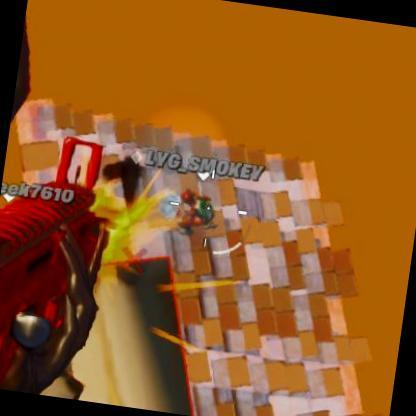person: (177, 190, 217, 236)
